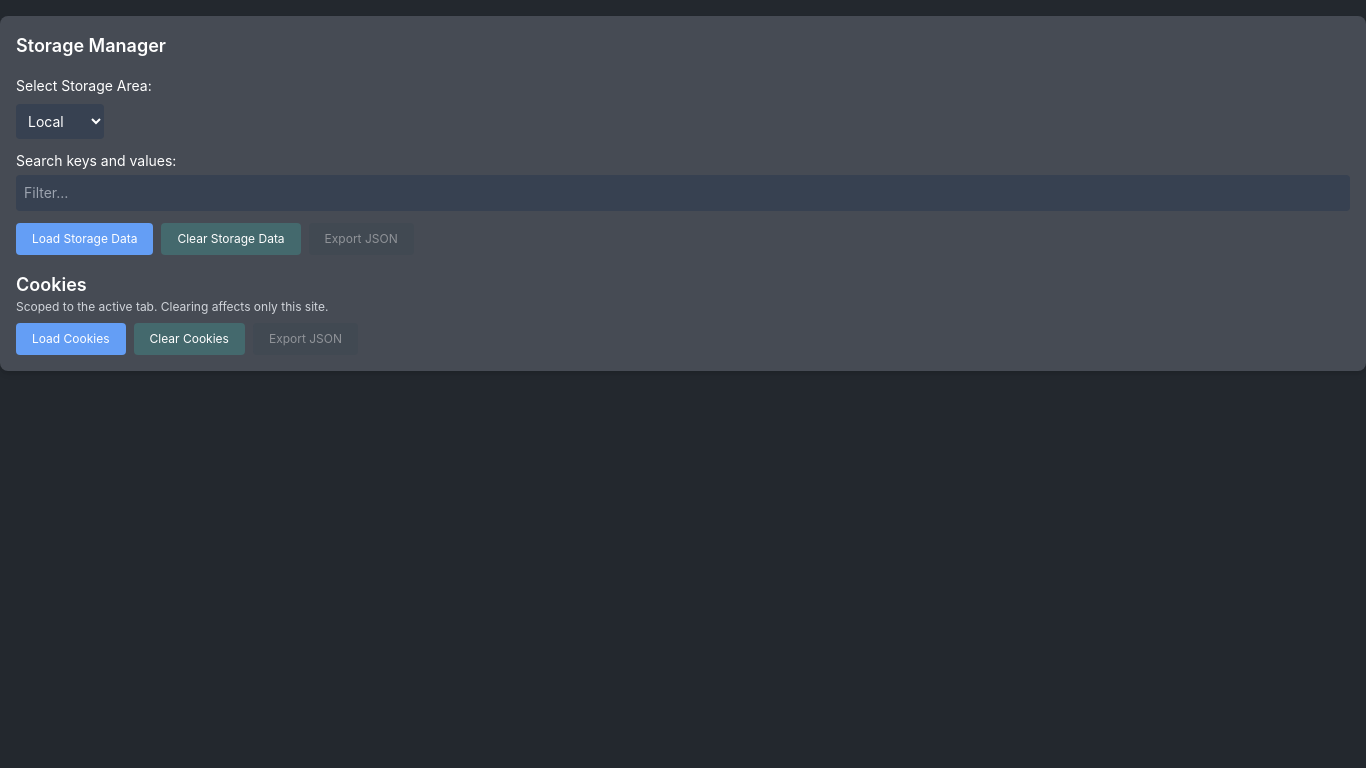
Test: StorageManager › loads local storage through executeScript and renders it as editable rows
Click the button "Load Storage Data": (85, 239) left=16, top=223, right=153, bottom=255
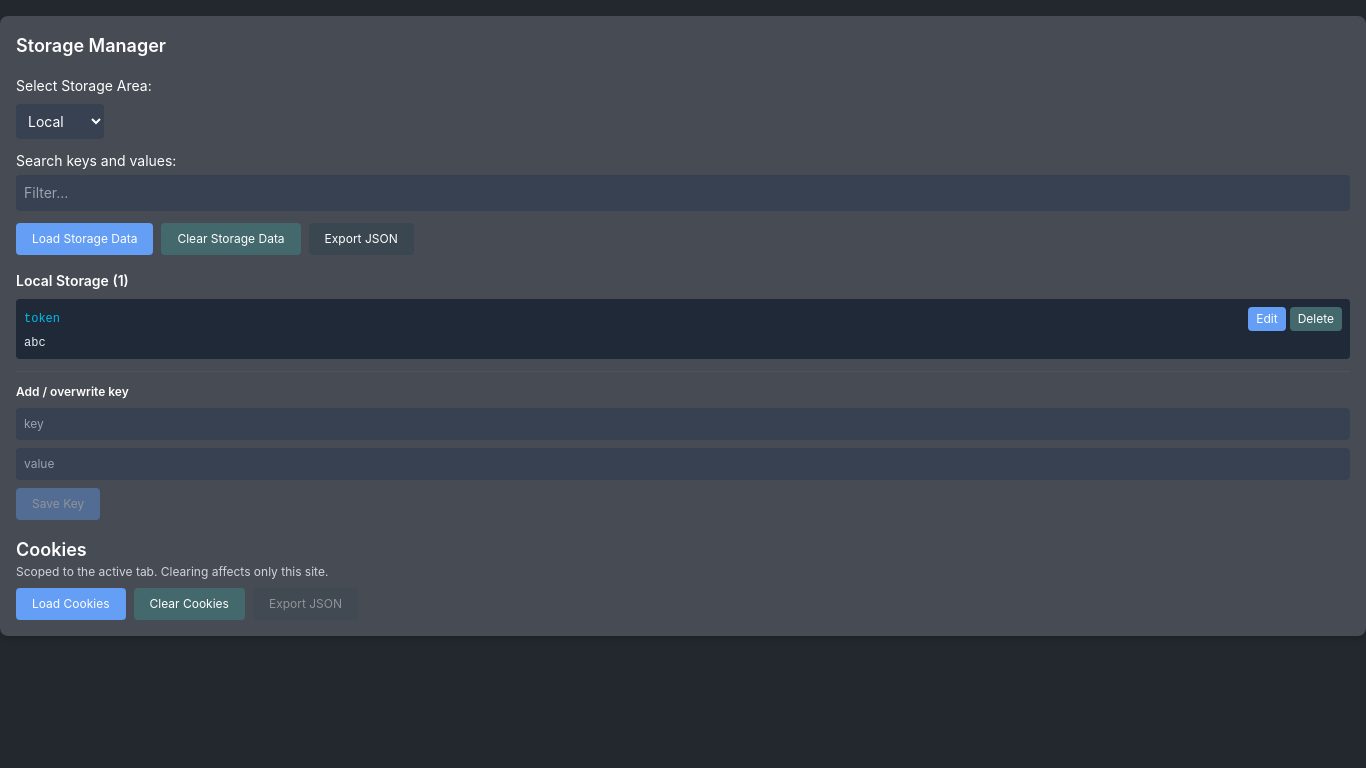
Check: the text "token" is shown, box left=24, top=311, right=60, bottom=327
Check: the text "abc" is shown, box left=24, top=336, right=46, bottom=350
Check: the button "Edit" is shown, box left=1248, top=307, right=1286, bottom=331
